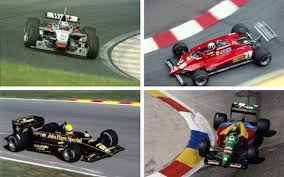FormulaOneCar: (195, 100, 276, 172), (17, 6, 104, 61)
